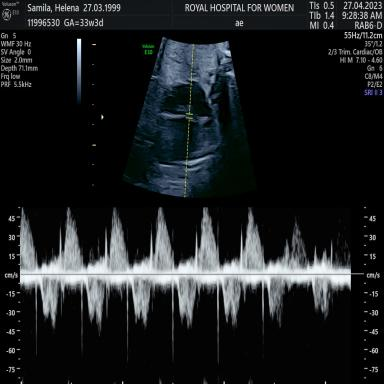Ultrasound-Waves: (27, 205, 350, 384)
